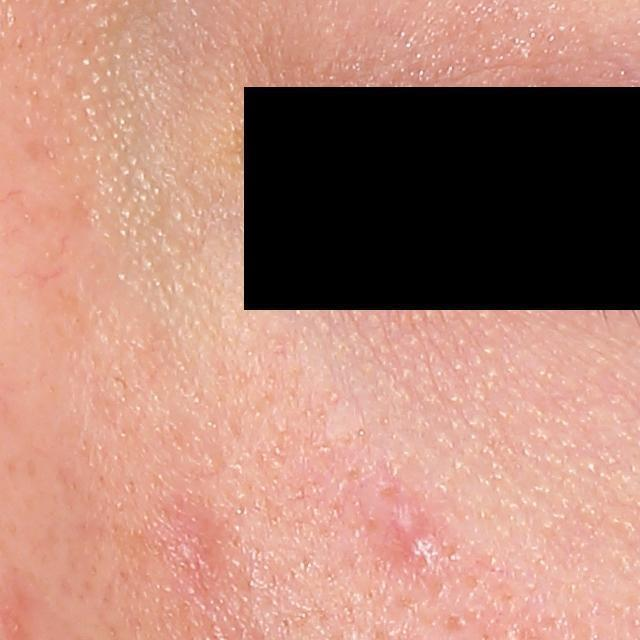papule: (154, 502, 226, 584), (400, 527, 439, 563)
